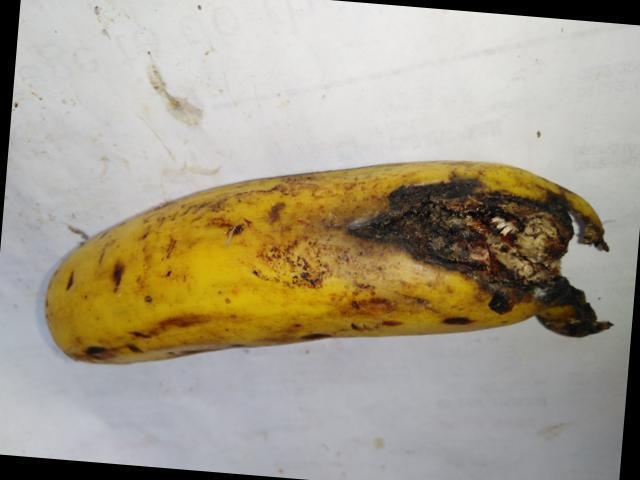rotten: (348, 122, 639, 374)
